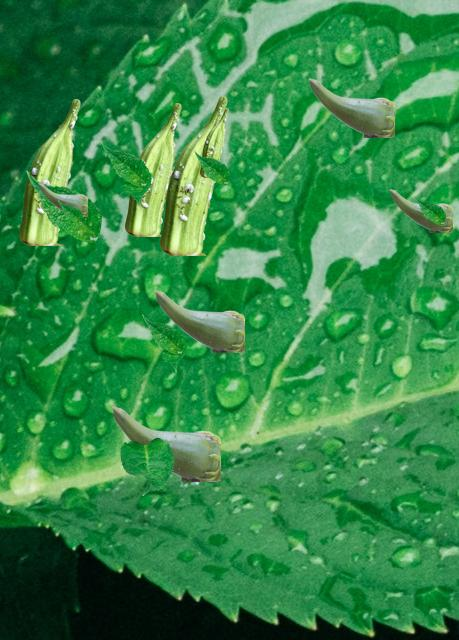okra: (160, 96, 226, 254), (19, 99, 79, 244), (111, 406, 219, 480), (125, 103, 180, 235), (154, 290, 243, 351), (308, 78, 393, 136), (389, 189, 451, 231), (200, 108, 227, 176), (38, 183, 86, 215)
